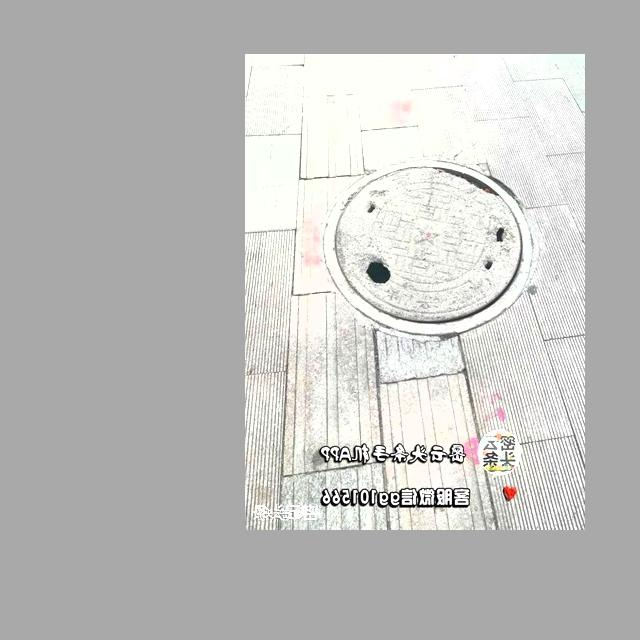broke: (310, 140, 549, 342)
